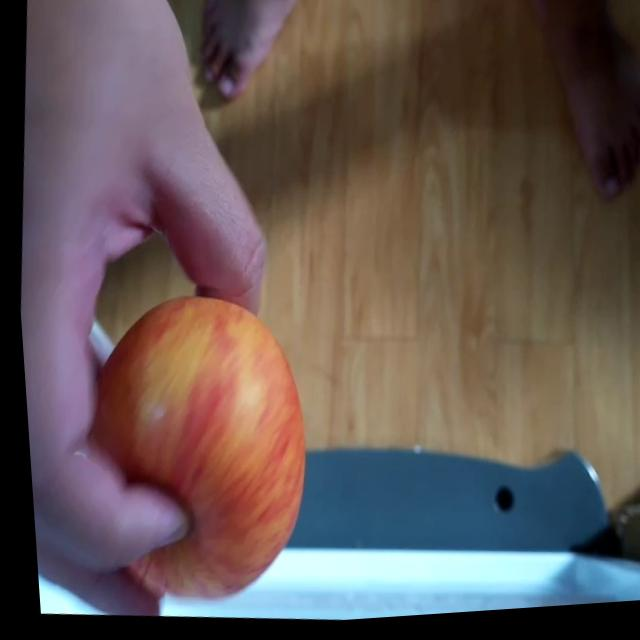apple: (64, 289, 323, 621)
